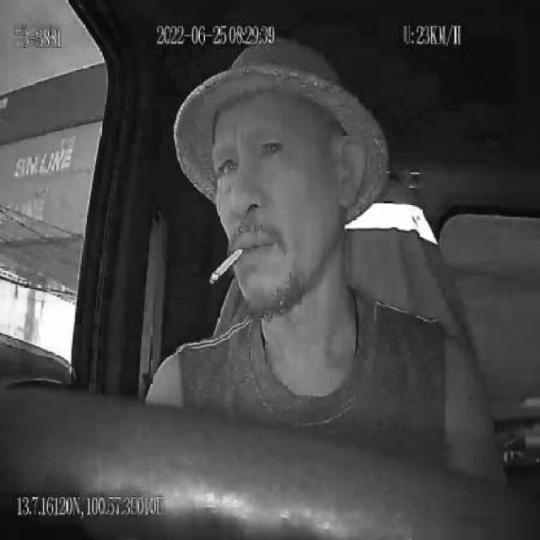smoking: (208, 243, 245, 285)
